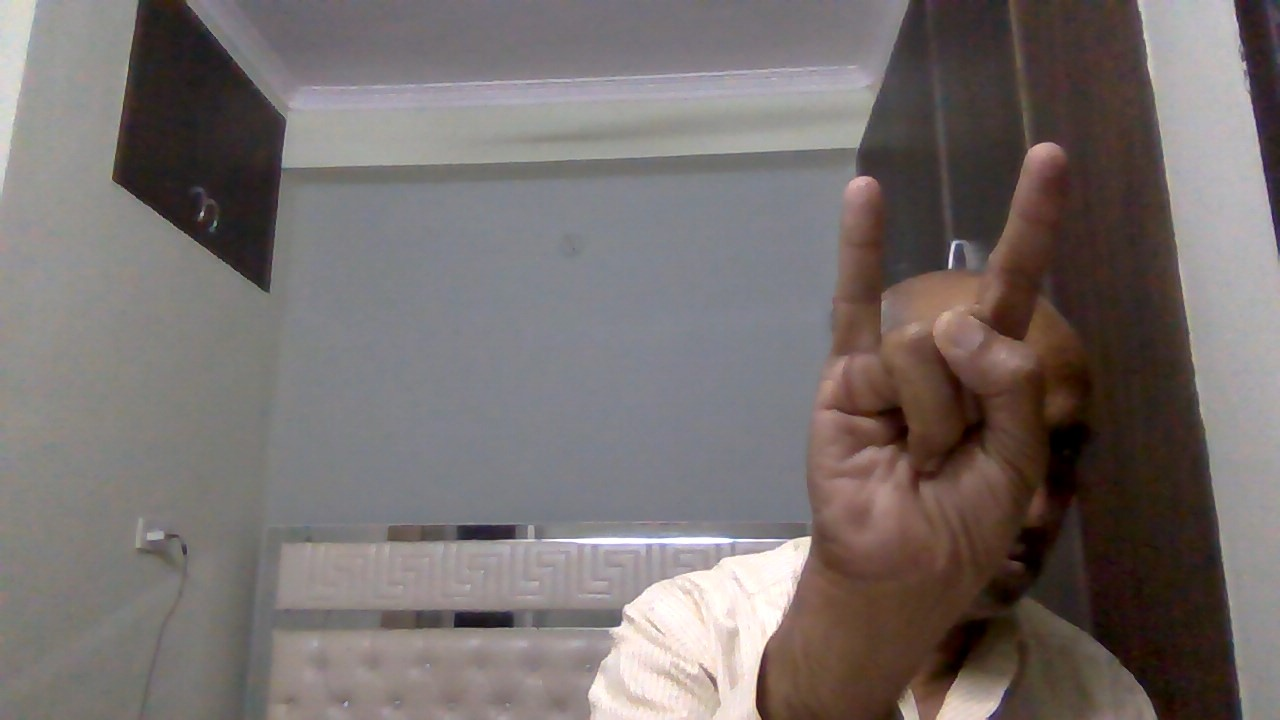Select All: (793, 137, 1081, 602)
